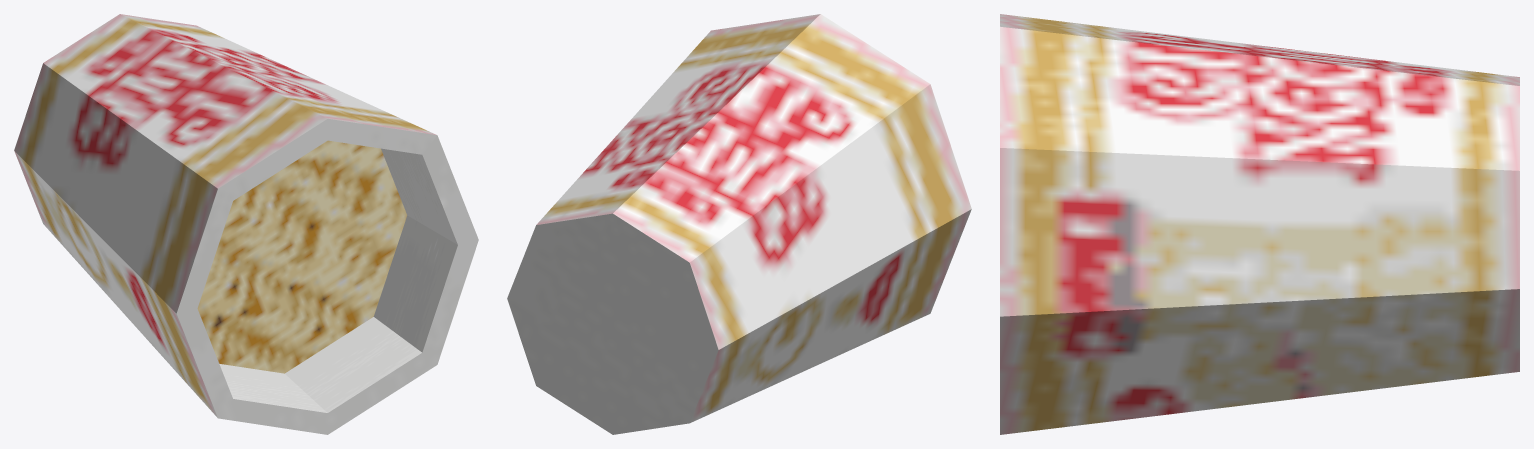
File: Cup of Noodles (Opened-Full).obj
3 renders of one model, left to right at view 1: azimuth 30°, elevation 25°; view 2: azimuth 150°, elevation 25°; view 3: azimuth 270°, elevation 25°, orthographic. The views are drawn at different scales.
Parts seen in each view (by area): view 1: Cup_Full; view 2: Cup_Full; view 3: Cup_Full.
Boxes of the visible parts, x1,y1,x2,y2 form: Cup_Full: (14, 14, 478, 434); Cup_Full: (507, 14, 971, 434); Cup_Full: (1000, 14, 1519, 434).
Bounding box in the file's own units: 1.68 × 1.68 × 2.
Materials: 1 (1 with a texture image).
